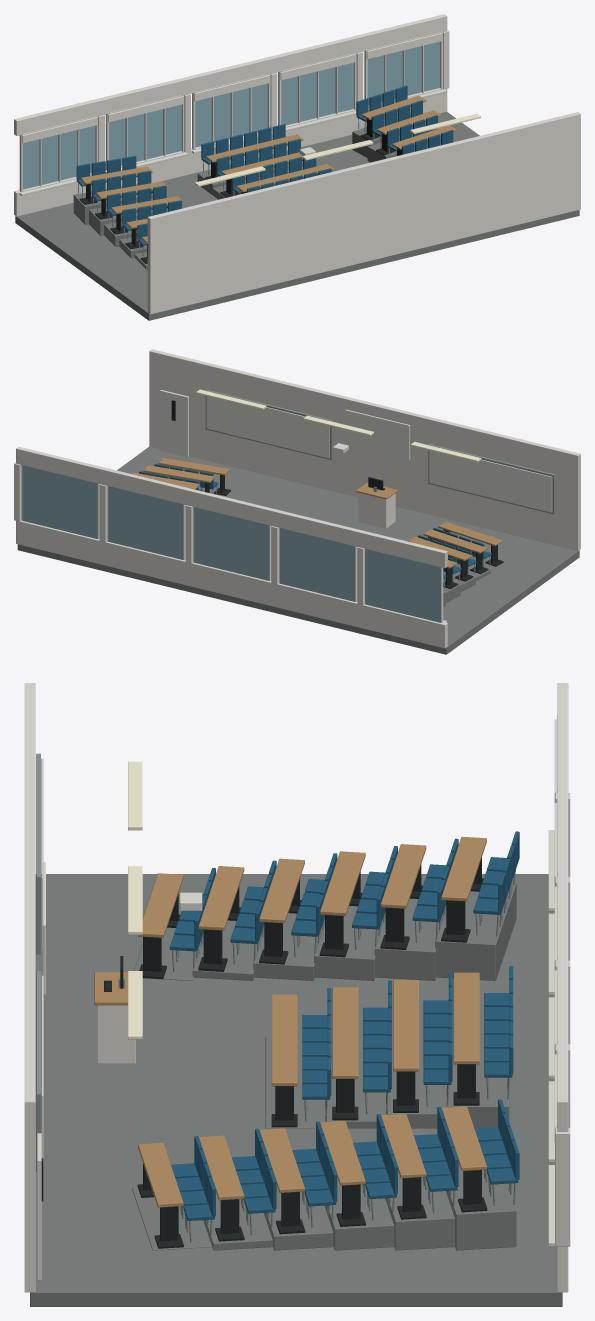
Rendered from old-interior-f9864ce7fc08.glb.
The picture shows the model from 3 angles, top to bottom: view 1: azimuth 30°, elevation 25°; view 2: azimuth 150°, elevation 25°; view 3: azimuth 270°, elevation 25°; orthographic projection. The views are drawn at different scales.
Visible parts, largest first — view 1: OLD.001; view 2: OLD.001; view 3: OLD.001.
Part boxes in pixels (x1,y1,x2,y2): OLD.001: (14, 14, 580, 320); OLD.001: (14, 349, 580, 654); OLD.001: (24, 683, 570, 1306).
Bounding box in the file's own units: 16.06 × 3.66 × 8.82.
